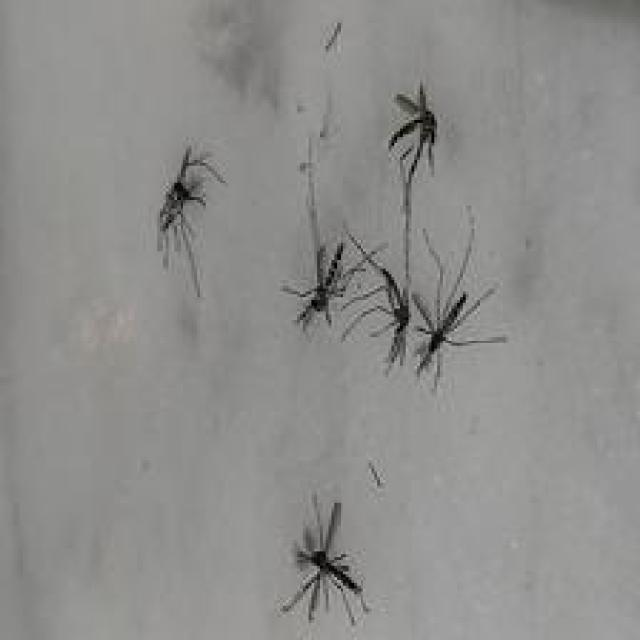Aedes albopictus: (277, 491, 372, 626)
